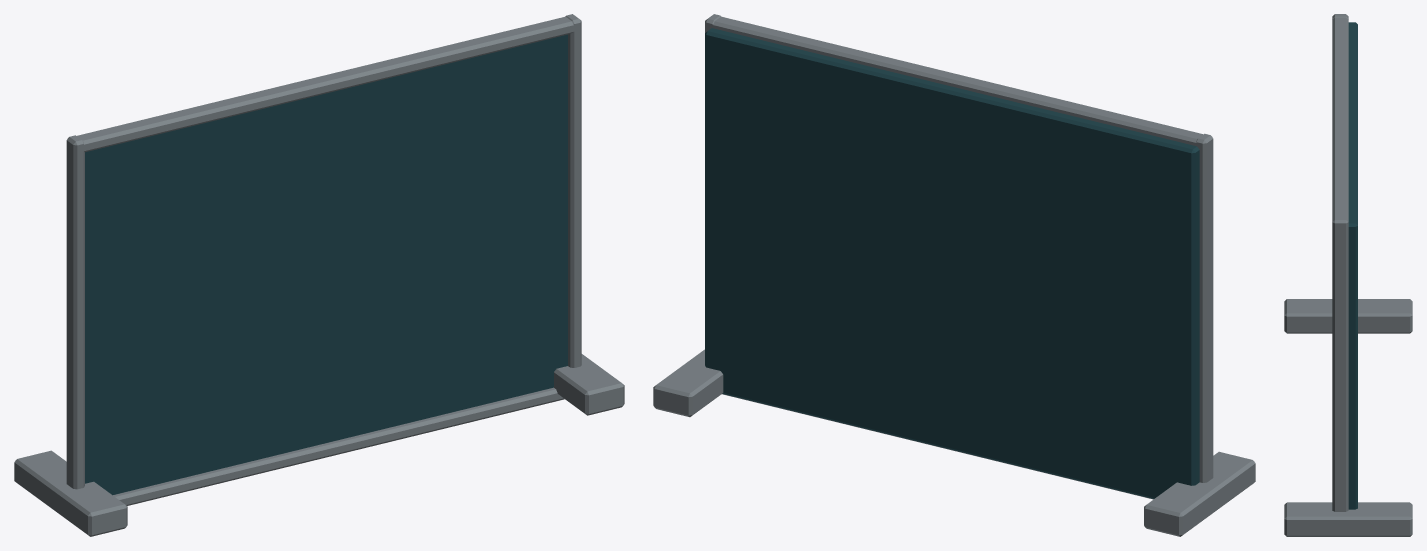
The model's file is DeskPartition.fbx.
3 views of the same model, side by side, from view 1: azimuth 30°, elevation 25°; view 2: azimuth 150°, elevation 25°; view 3: azimuth 270°, elevation 25° (orthographic). The views are drawn at different scales.
Visible parts, largest first — view 1: DeskPartition; view 2: DeskPartition; view 3: DeskPartition.
Boxes of the visible parts, x1,y1,x2,y2 form: DeskPartition: (14,14,624,536); DeskPartition: (653,14,1255,536); DeskPartition: (1284,14,1412,536).
Size of the model in its own units: 162 by 109 by 40.
1 material, 1 textured.
